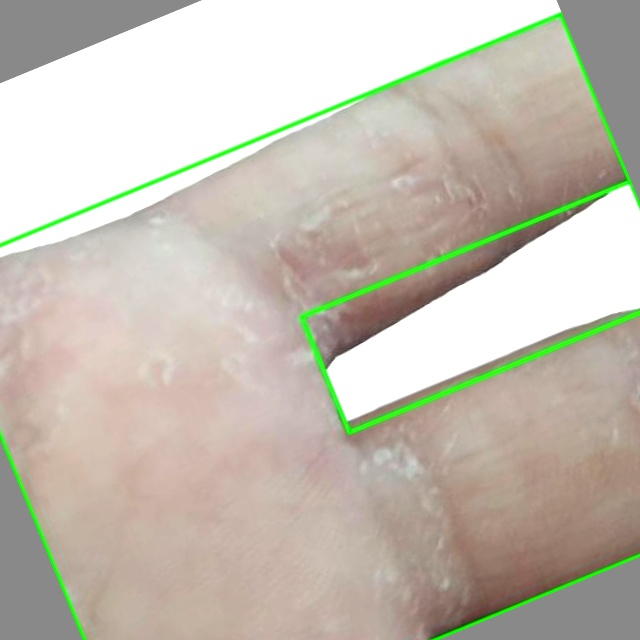Scabies: (0, 13, 639, 639), (301, 181, 639, 432)
